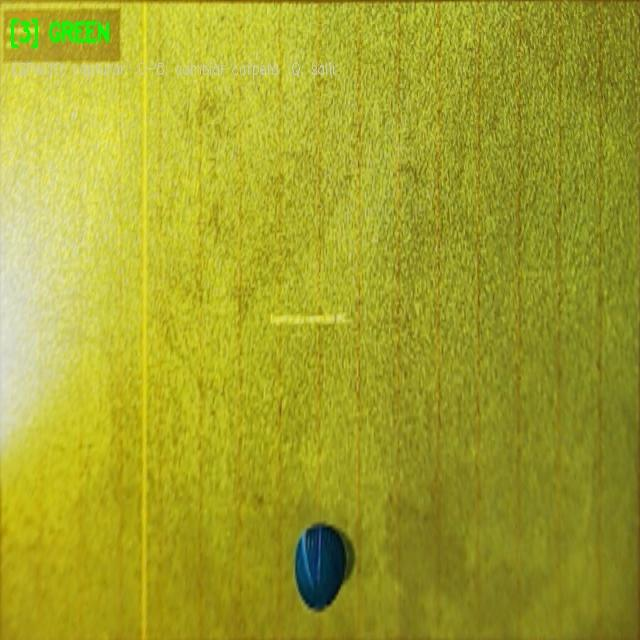green: (293, 520, 346, 612)
